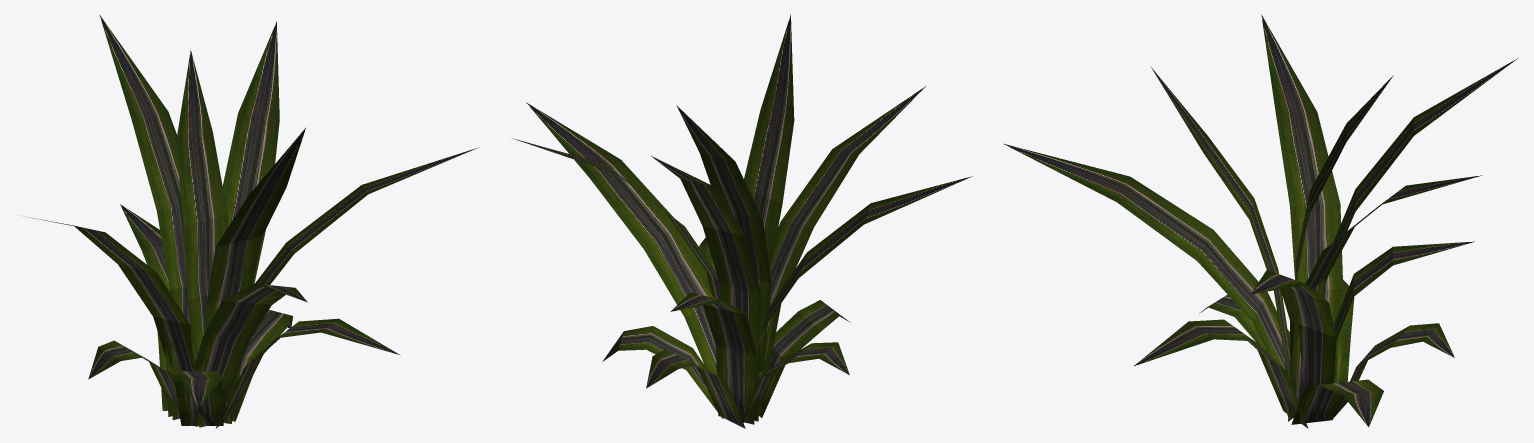
The model's file is plant1_diffuse.fbx.
The picture shows the model from 3 angles, left to right: view 1: azimuth 30°, elevation 25°; view 2: azimuth 150°, elevation 25°; view 3: azimuth 270°, elevation 25°; orthographic projection. The views are drawn at different scales.
Visible parts, largest first — view 1: Plane.001; view 2: Plane.001; view 3: Plane.001.
Boxes of the visible parts, x1,y1,x2,y2 form: Plane.001: (22,14,479,428); Plane.001: (512,14,972,428); Plane.001: (1003,14,1517,428).
Size of the model in its own units: 287 by 205 by 264.
Materials: 2 (2 with a texture image).
